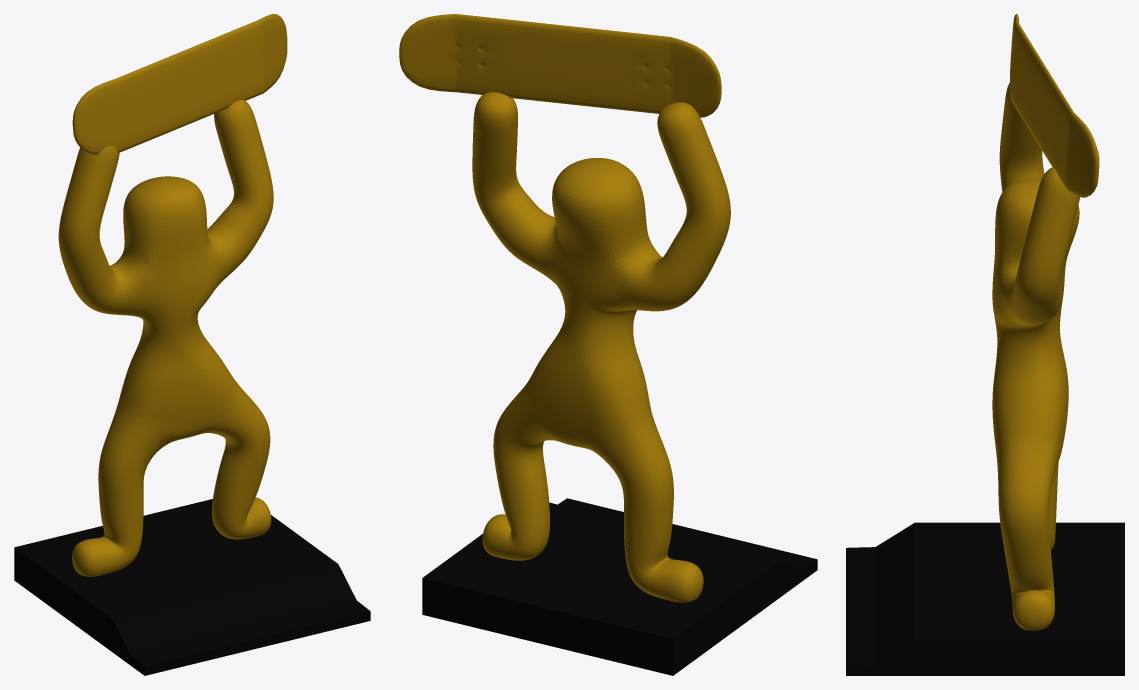
The picture shows the model from 3 angles, left to right: view 1: azimuth 30°, elevation 25°; view 2: azimuth 150°, elevation 25°; view 3: azimuth 270°, elevation 25°; orthographic projection. The views are drawn at different scales.
Visible parts, largest first — view 1: Plane.001, base.001, brett; view 2: Plane.001, base.001, brett; view 3: base.001, Plane.001, brett.
Part boxes in pixels (bbox=[...]): Plane.001: bbox=[58, 99, 273, 576]; base.001: bbox=[14, 499, 370, 675]; brett: bbox=[72, 14, 287, 154]; Plane.001: bbox=[472, 92, 730, 602]; base.001: bbox=[422, 498, 817, 675]; brett: bbox=[399, 14, 721, 117]; base.001: bbox=[846, 522, 1124, 675]; Plane.001: bbox=[992, 82, 1079, 630]; brett: bbox=[1010, 14, 1099, 197].
Bounding box in the file's own units: 92.06 × 178 × 79.88.
